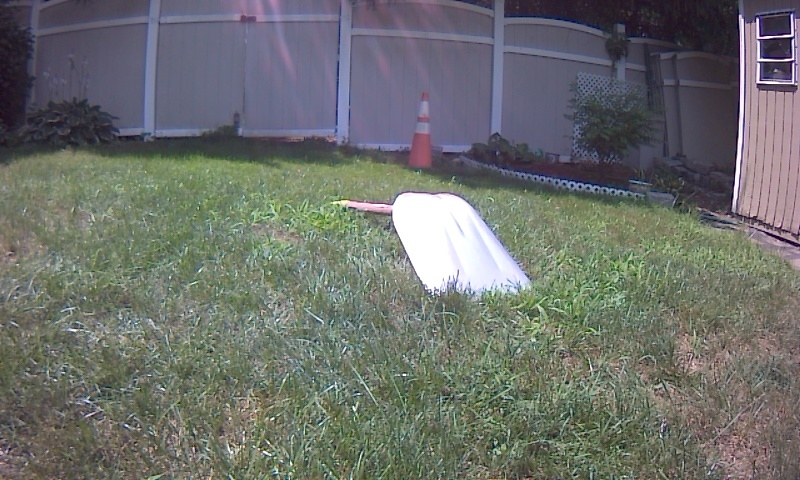shovel: (312, 166, 555, 329)
